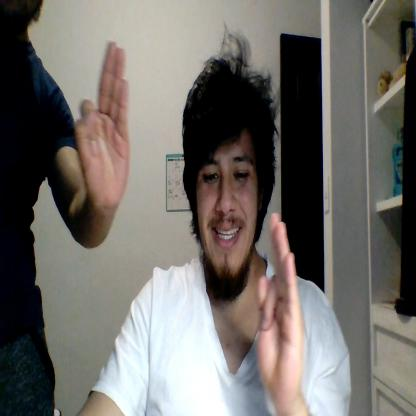F: (74, 40, 130, 208), (258, 212, 308, 399)
